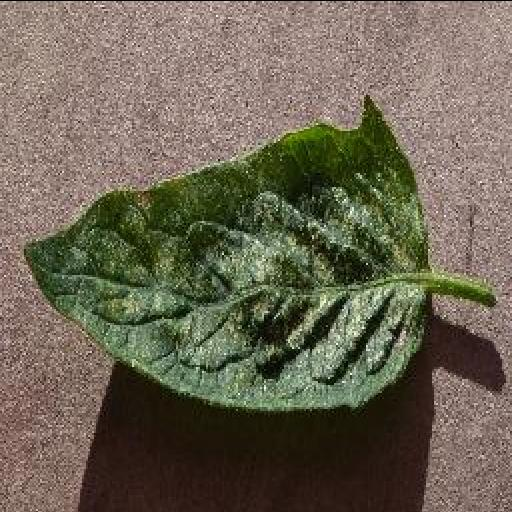disease_tomato: (20, 96, 430, 406)
